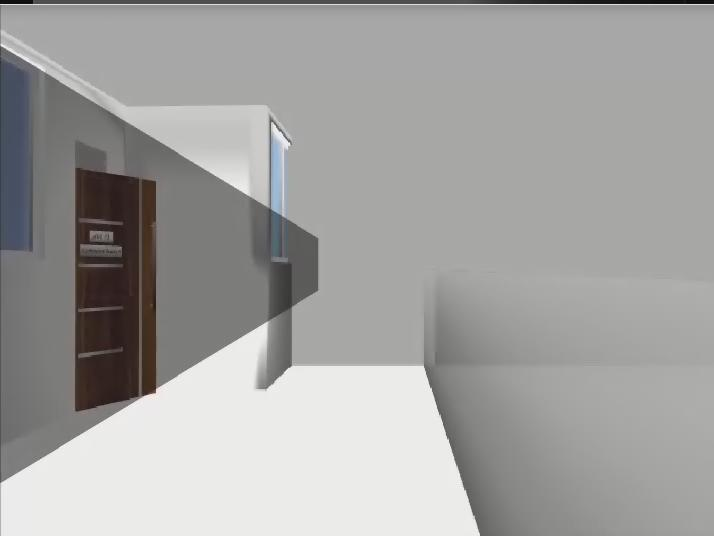door: (76, 169, 156, 412)
